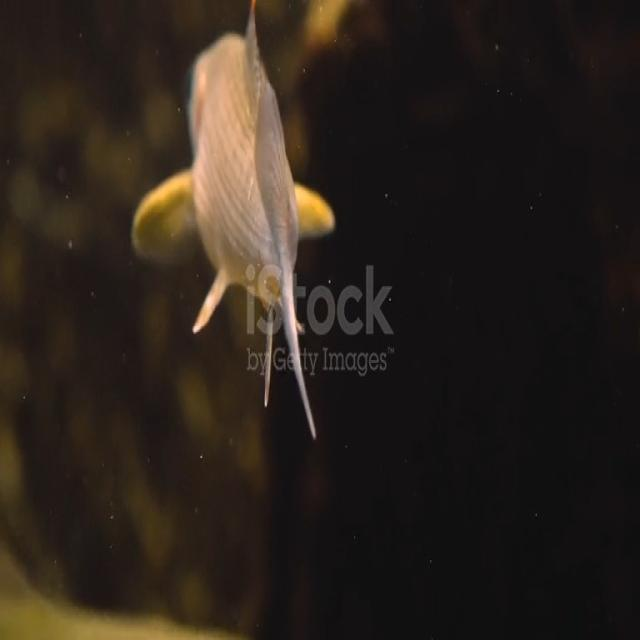fish: (133, 0, 336, 453)
